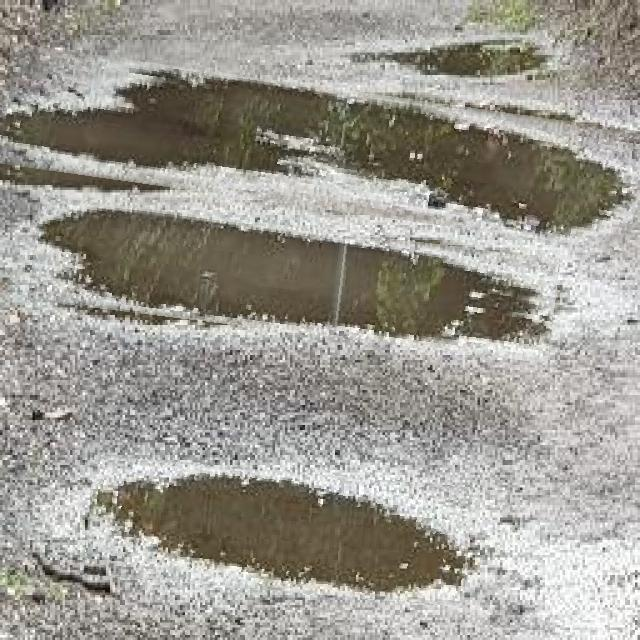puddle: (1, 66, 640, 230), (31, 212, 559, 349), (87, 464, 472, 600)
